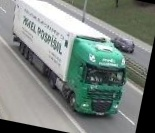car: (109, 35, 136, 56)
